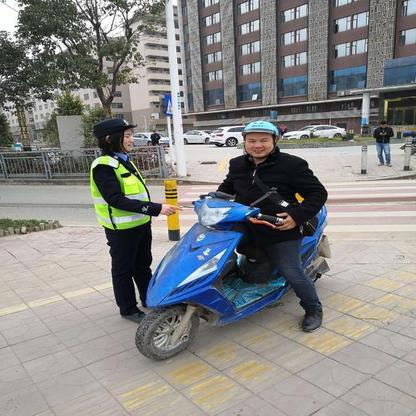target: (135, 120, 333, 362)
